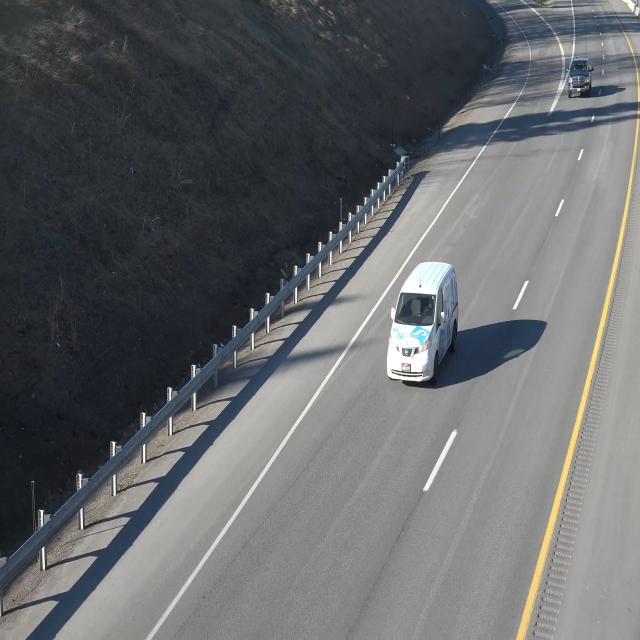Car: (386, 263, 458, 388), (566, 54, 595, 98)
